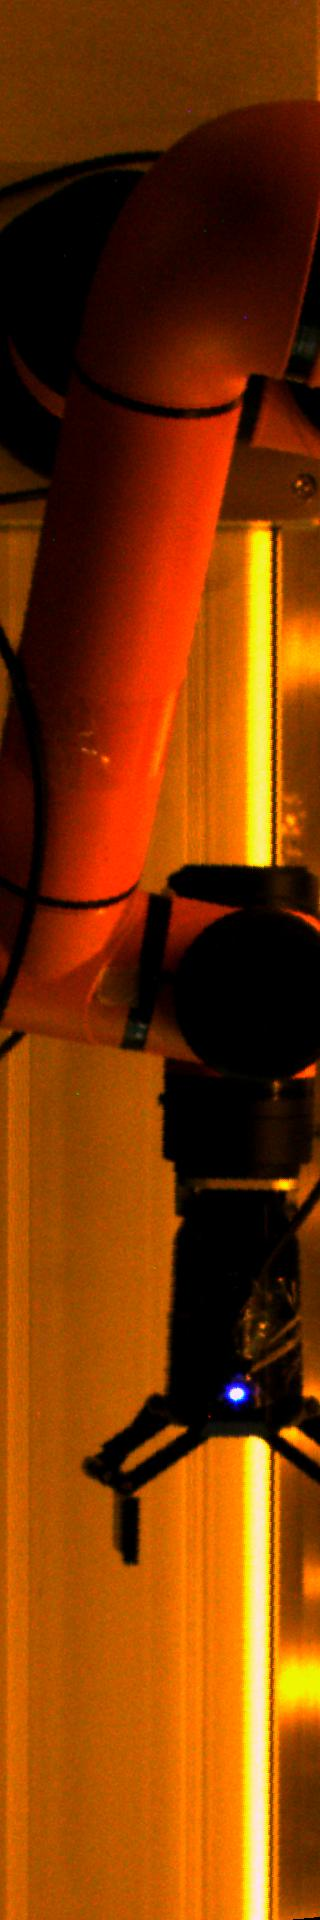keyPoint_1: (221, 1375, 251, 1404)
